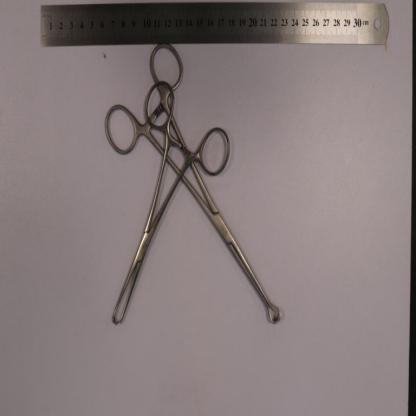8 Babcock Tissue Forceps: (104, 40, 283, 326)
Allis Tissue Forceps: (113, 78, 234, 327)
